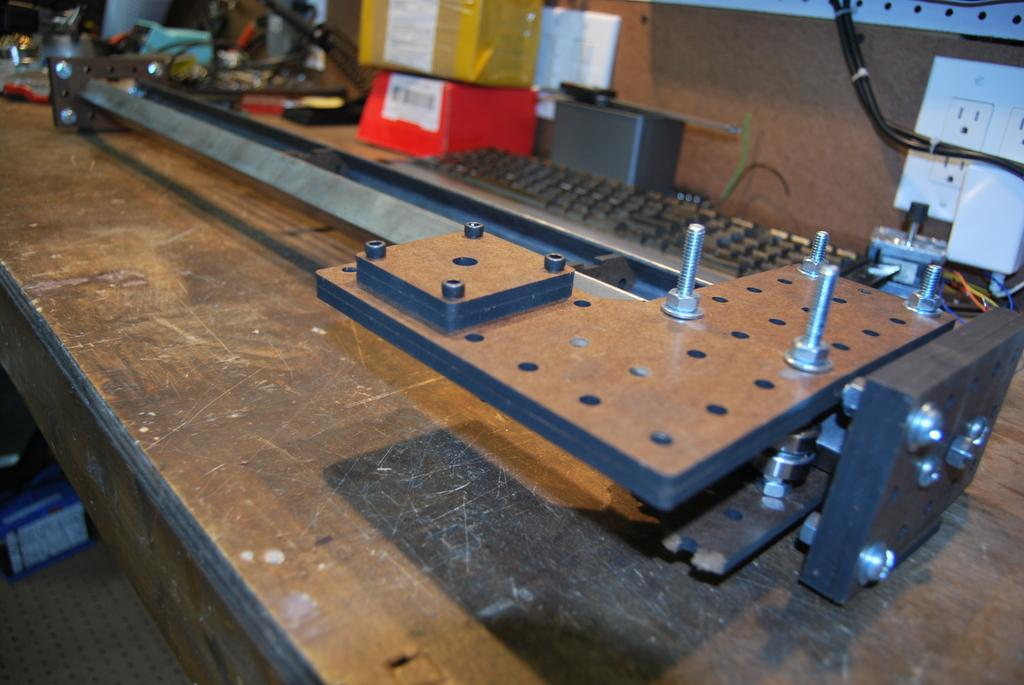Computer-keyboard: (385, 140, 870, 290)
